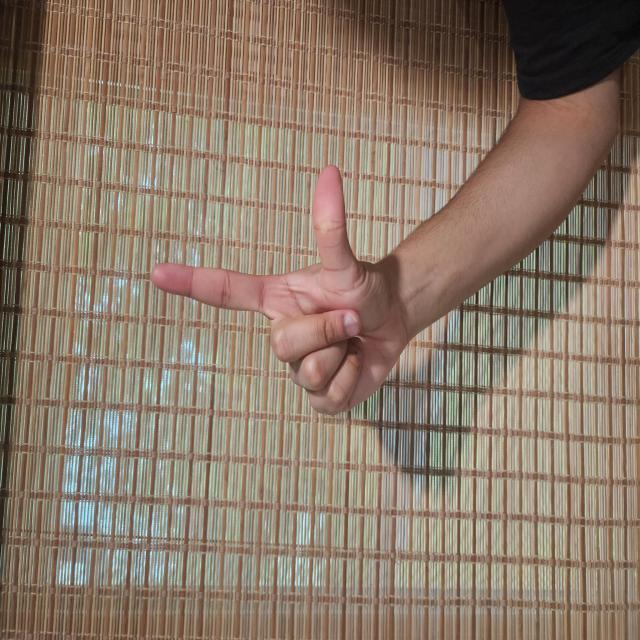L: (164, 198, 366, 549)
